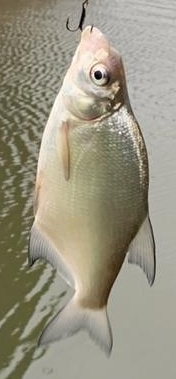Blicca bjoerkna: (20, 20, 156, 359)
